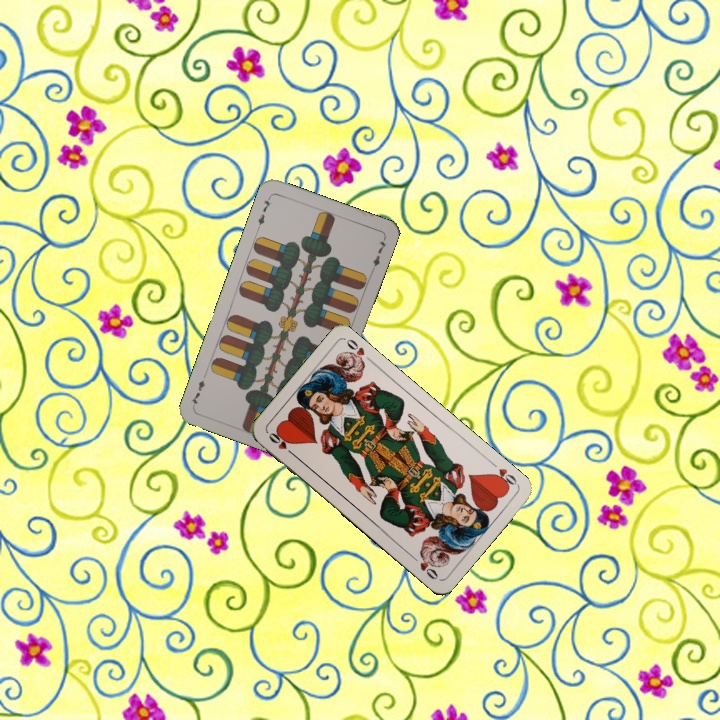E7: (253, 192, 274, 231)
HO: (264, 428, 298, 459), (487, 464, 520, 491)
